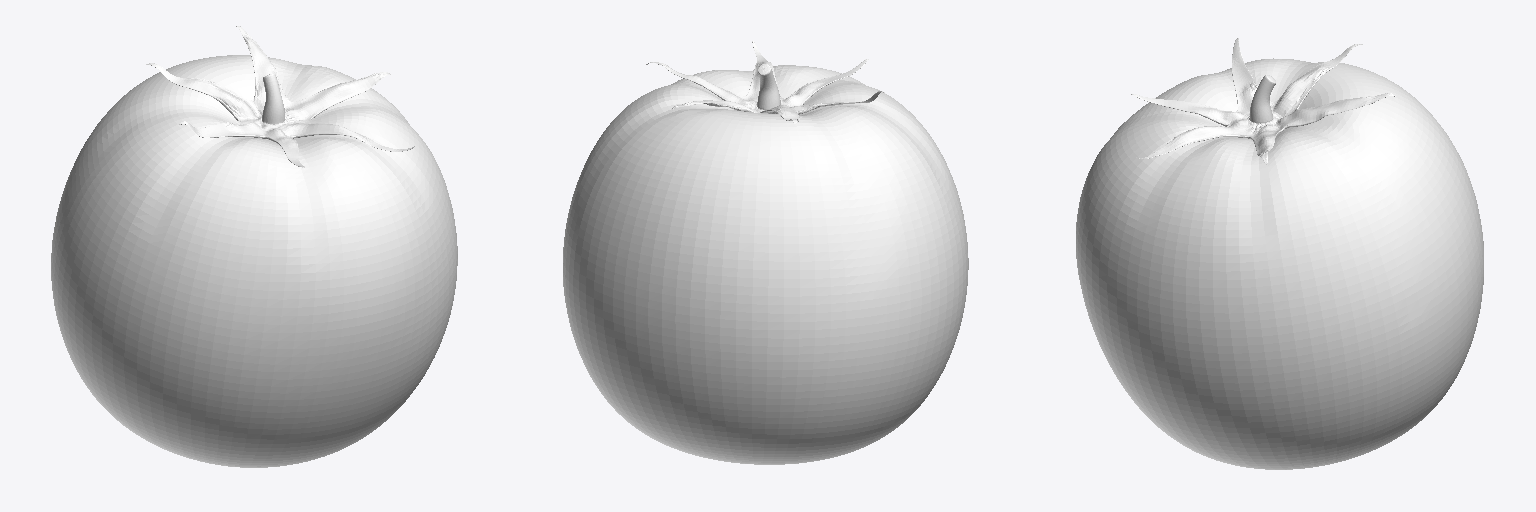
The model's file is tomato.obj.
3 renders of one model, left to right at view 1: azimuth 30°, elevation 25°; view 2: azimuth 150°, elevation 25°; view 3: azimuth 270°, elevation 25°, orthographic.
Visible parts, largest first — view 1: tomato_part_03; view 2: tomato_part_03; view 3: tomato_part_03.
Boxes of the visible parts, x1=… form: tomato_part_03: x1=51, y1=26, x2=457, y2=467; tomato_part_03: x1=563, y1=41, x2=968, y2=464; tomato_part_03: x1=1076, y1=38, x2=1483, y2=469.
Bounding box in the file's own units: 2 × 2.01 × 2.01.